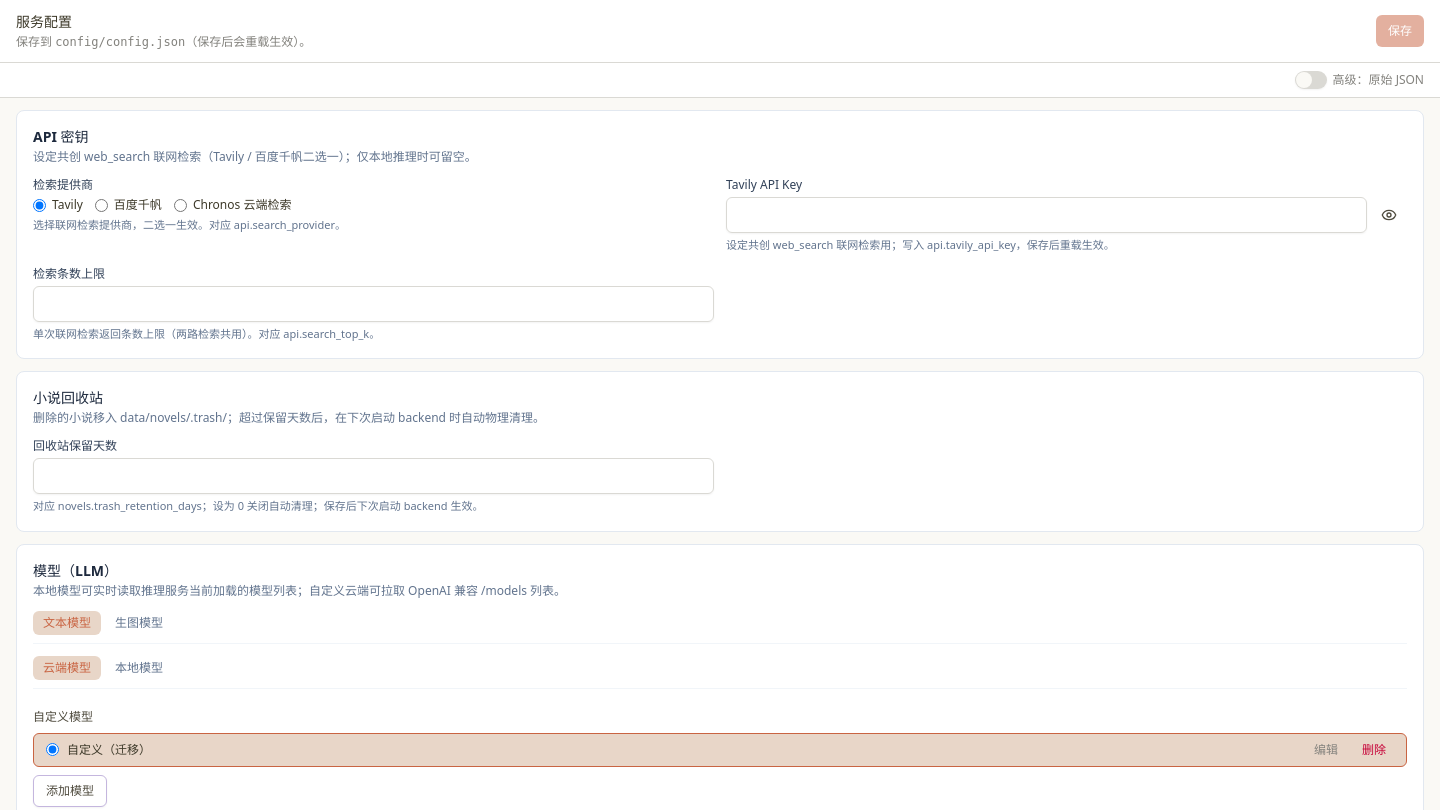
Test: ServiceConfigPage model tabs › 编辑自定义模型时拉取模型列表后展示可选 radio
The width and height of the screenshot is (1440, 810).
Expected: the text "自定义（迁移）" is shown, [67, 742, 151, 758]
Click the button "编辑": {"x": 1326, "y": 750} [1306, 742, 1346, 758]
(page scrolled)
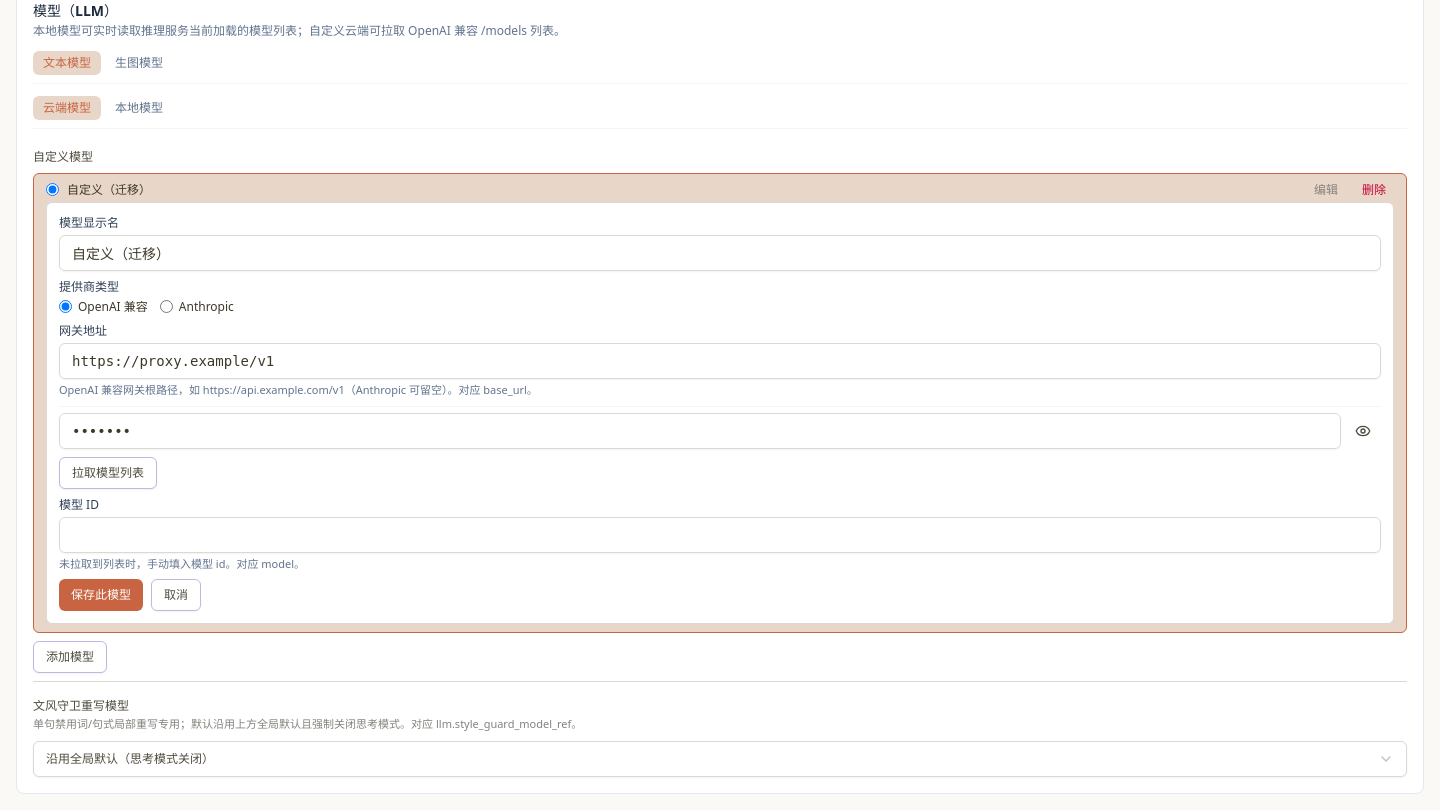
Expected: the button "拉取模型列表" is shown
Click the button "拉取模型列表": {"x": 108, "y": 472} [59, 456, 157, 488]
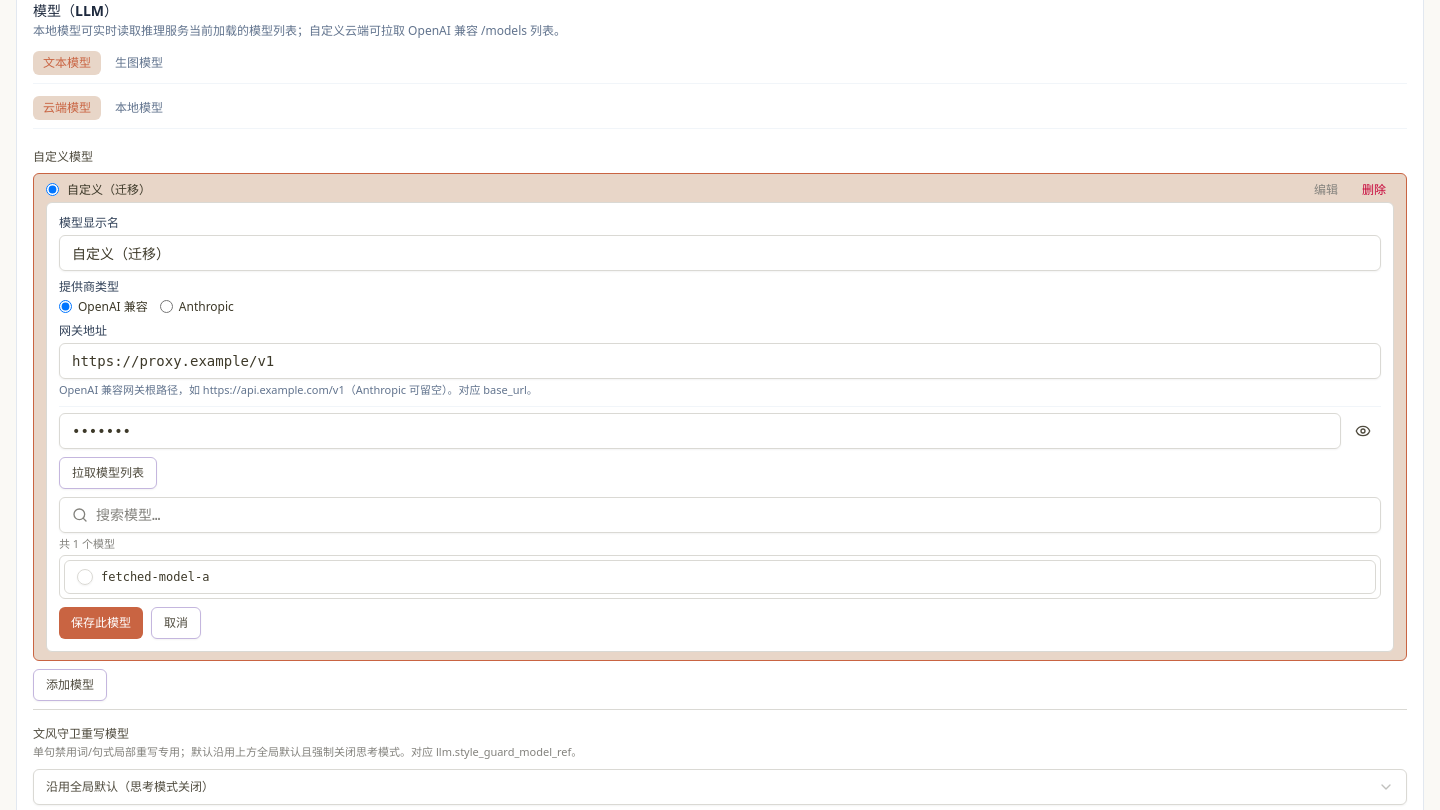
Expected: the text "fetched-model-a" is shown, [101, 569, 209, 585]
